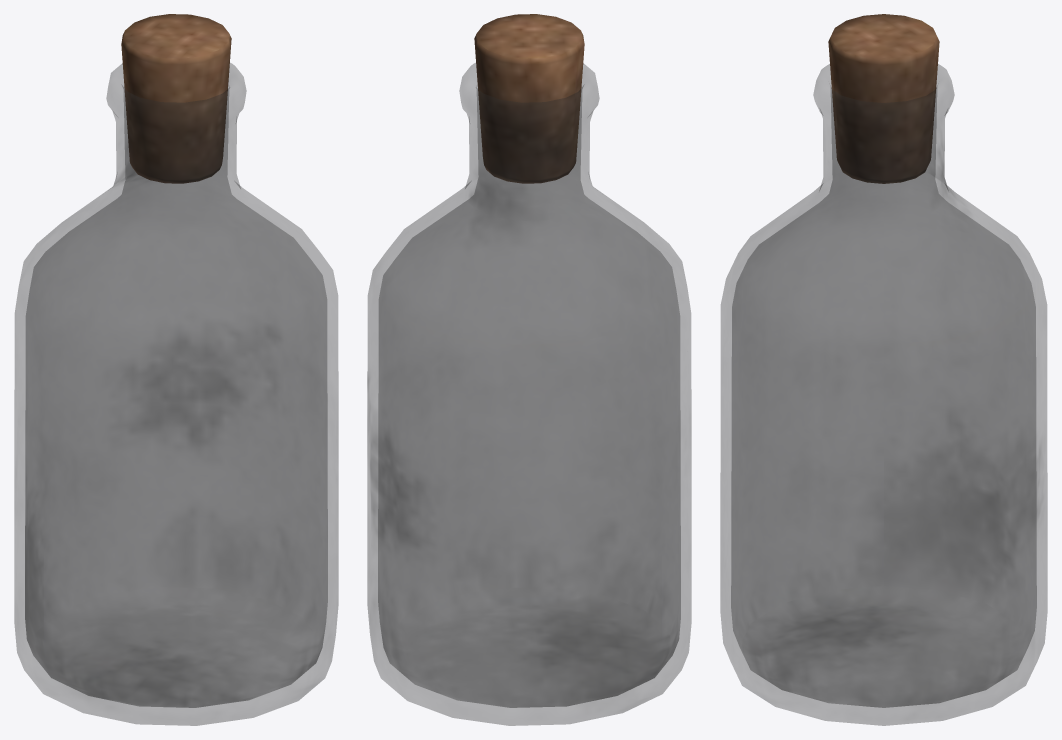
The model's file is bottle_clear_d.glb.
The picture shows the model from 3 angles, left to right: view 1: azimuth 30°, elevation 25°; view 2: azimuth 150°, elevation 25°; view 3: azimuth 270°, elevation 25°; orthographic projection.
Visible parts, largest first — view 1: chemistry_set_bottle_clear_d.001, chemistry_set_bottle_clear_d_cork.001; view 2: chemistry_set_bottle_clear_d.001, chemistry_set_bottle_clear_d_cork.001; view 3: chemistry_set_bottle_clear_d.001, chemistry_set_bottle_clear_d_cork.001.
Part boxes in pixels (x1=…): chemistry_set_bottle_clear_d.001: x1=14, y1=63, x2=338, y2=725; chemistry_set_bottle_clear_d_cork.001: x1=121, y1=14, x2=231, y2=183; chemistry_set_bottle_clear_d.001: x1=367, y1=63, x2=691, y2=725; chemistry_set_bottle_clear_d_cork.001: x1=474, y1=14, x2=584, y2=183; chemistry_set_bottle_clear_d.001: x1=720, y1=64, x2=1047, y2=725; chemistry_set_bottle_clear_d_cork.001: x1=828, y1=14, x2=939, y2=183.
Bounding box in the file's own units: 0.0499 × 0.1069 × 0.0499.
Materials: 2 (2 with a texture image).
